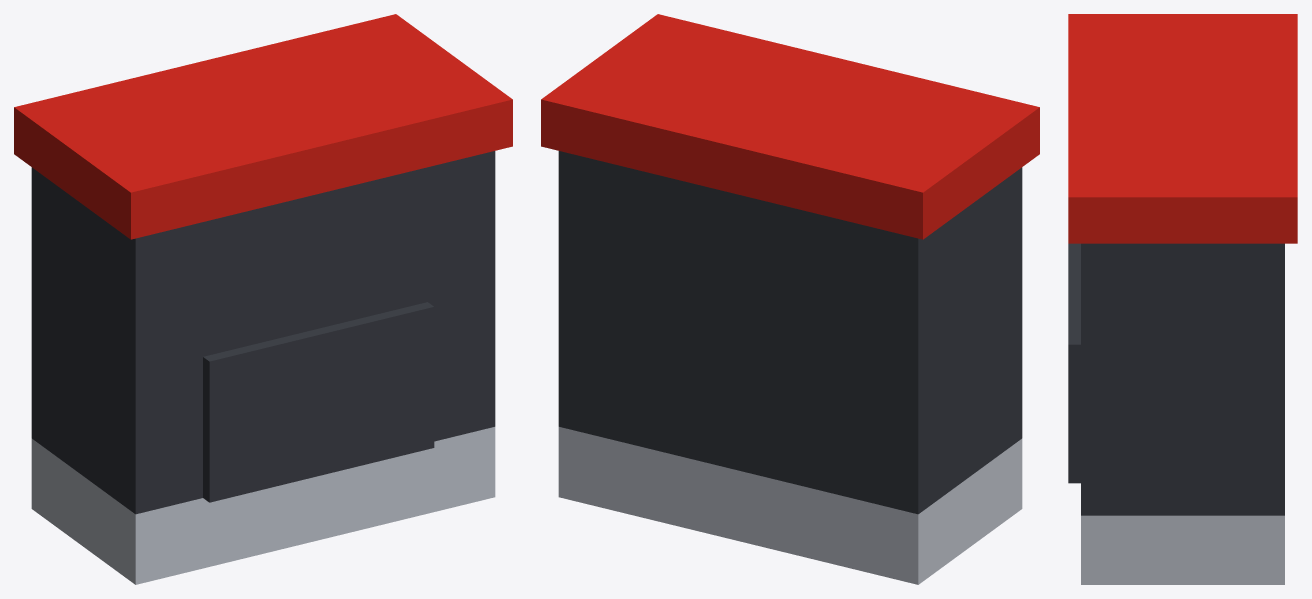
The model's file is pinsetter_back.glb.
3 views of the same model, side by side, from view 1: azimuth 30°, elevation 25°; view 2: azimuth 150°, elevation 25°; view 3: azimuth 270°, elevation 25° (orthographic).
Visible parts, largest first — view 1: pinsetter_back; view 2: pinsetter_back; view 3: pinsetter_back.
Boxes of the visible parts, left/top/right/bottom form: pinsetter_back: left=14, top=14, right=512, bottom=584; pinsetter_back: left=541, top=14, right=1039, bottom=584; pinsetter_back: left=1068, top=14, right=1297, bottom=584.
Bounding box in the file's own units: 1.7 × 1.7 × 0.9.
